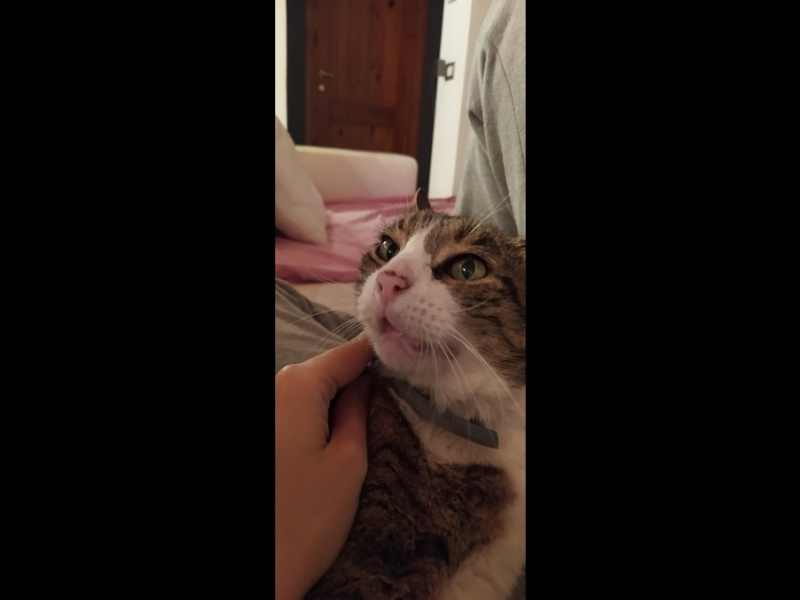cat: (273, 186, 524, 591)
